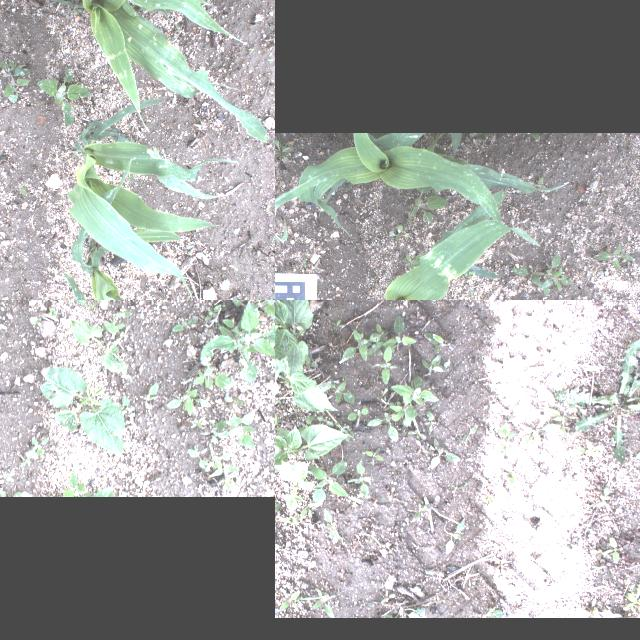crop: (66, 97, 238, 300), (43, 0, 266, 142), (275, 134, 568, 242), (361, 186, 538, 300), (61, 156, 178, 300), (39, 364, 125, 460), (196, 302, 275, 386), (70, 316, 128, 378), (275, 357, 338, 411), (275, 424, 345, 470), (275, 300, 312, 375), (279, 461, 313, 513), (447, 132, 461, 158), (529, 133, 539, 141)
weed: (553, 337, 640, 465), (36, 68, 92, 124), (187, 408, 257, 450), (186, 444, 240, 492), (391, 376, 437, 424), (530, 252, 572, 294), (163, 386, 214, 420), (311, 461, 347, 509), (408, 179, 447, 223), (187, 365, 236, 395), (60, 472, 119, 496), (0, 58, 30, 103), (382, 315, 414, 351), (593, 244, 633, 272), (517, 424, 559, 450), (345, 460, 371, 500), (430, 438, 460, 470), (573, 598, 621, 618), (544, 407, 576, 437), (338, 330, 368, 362), (366, 413, 400, 441), (496, 418, 522, 454), (372, 348, 398, 384), (620, 572, 640, 617), (165, 312, 199, 336), (446, 518, 464, 556), (24, 437, 52, 461), (572, 438, 604, 459), (596, 534, 618, 564), (312, 587, 332, 617), (249, 300, 275, 323), (323, 508, 339, 544), (421, 354, 451, 372), (204, 304, 226, 328), (328, 382, 354, 402), (423, 331, 447, 351), (279, 588, 299, 612), (379, 608, 426, 618), (67, 300, 101, 313), (389, 404, 408, 426), (224, 394, 250, 410), (145, 378, 161, 402), (345, 406, 369, 422), (594, 484, 610, 508), (368, 323, 388, 342), (275, 139, 291, 162), (400, 254, 422, 270), (15, 453, 33, 472), (464, 133, 492, 145), (106, 308, 134, 320), (362, 448, 383, 464), (511, 266, 544, 276), (388, 224, 408, 240), (337, 421, 353, 441), (461, 423, 477, 442), (504, 462, 518, 483), (478, 486, 494, 504), (298, 414, 314, 432), (424, 408, 434, 436), (275, 412, 286, 437), (44, 304, 60, 320), (26, 317, 44, 331), (0, 487, 28, 496), (414, 503, 428, 519), (484, 606, 502, 618), (316, 414, 334, 426), (0, 468, 12, 485), (588, 563, 608, 573), (528, 176, 544, 188), (330, 318, 346, 330), (300, 502, 312, 518), (406, 429, 426, 438), (282, 516, 300, 526), (305, 358, 317, 370), (381, 594, 395, 604), (0, 301, 8, 317), (379, 387, 388, 401), (276, 399, 286, 411), (370, 344, 380, 356), (633, 443, 640, 460), (350, 496, 360, 504), (464, 272, 474, 278), (388, 486, 392, 500), (398, 521, 410, 525), (370, 531, 374, 543), (302, 260, 306, 266)
